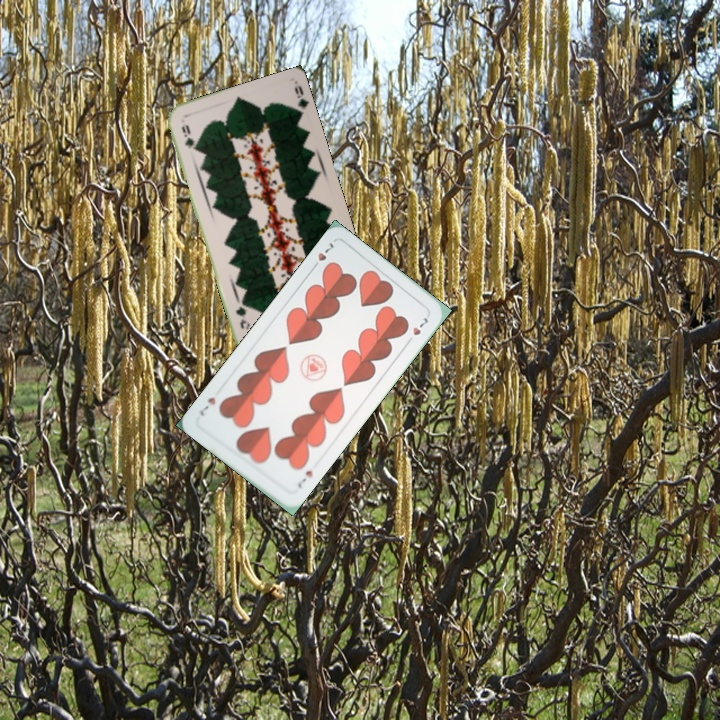G9: (177, 120, 198, 154)
H7: (308, 238, 337, 272), (293, 466, 316, 491)
